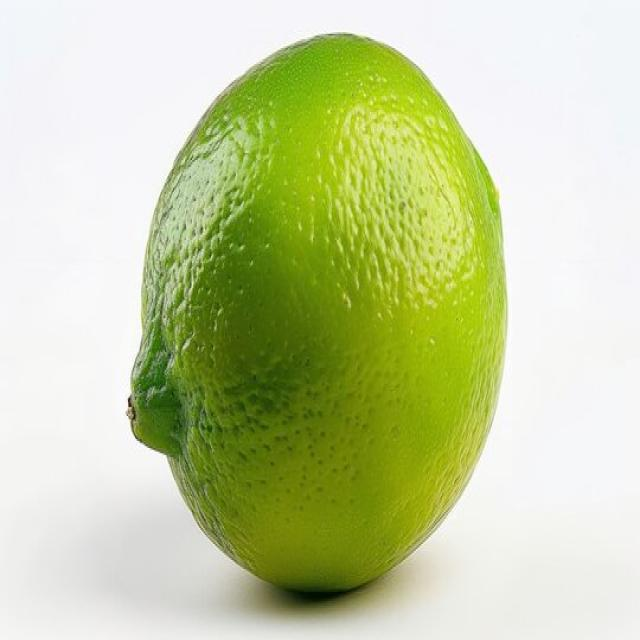Lemon: (126, 30, 508, 596)
